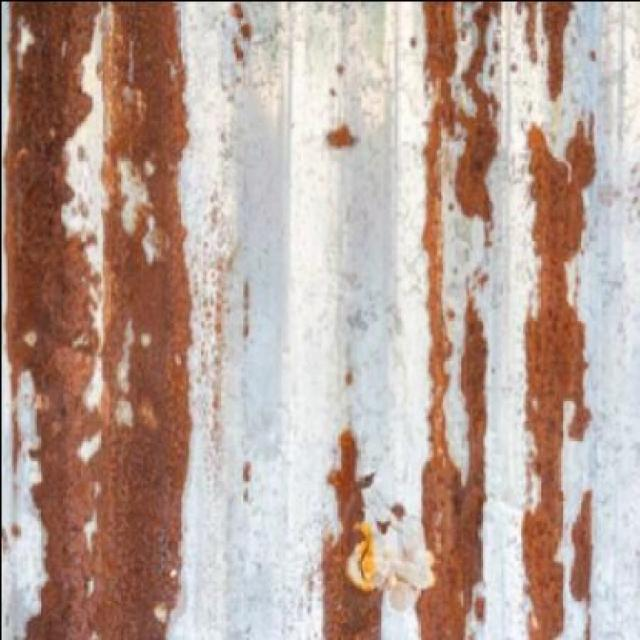Uniform Corrosion: (7, 2, 191, 639), (418, 4, 495, 639), (523, 125, 594, 639), (322, 429, 380, 639), (542, 4, 570, 100)
